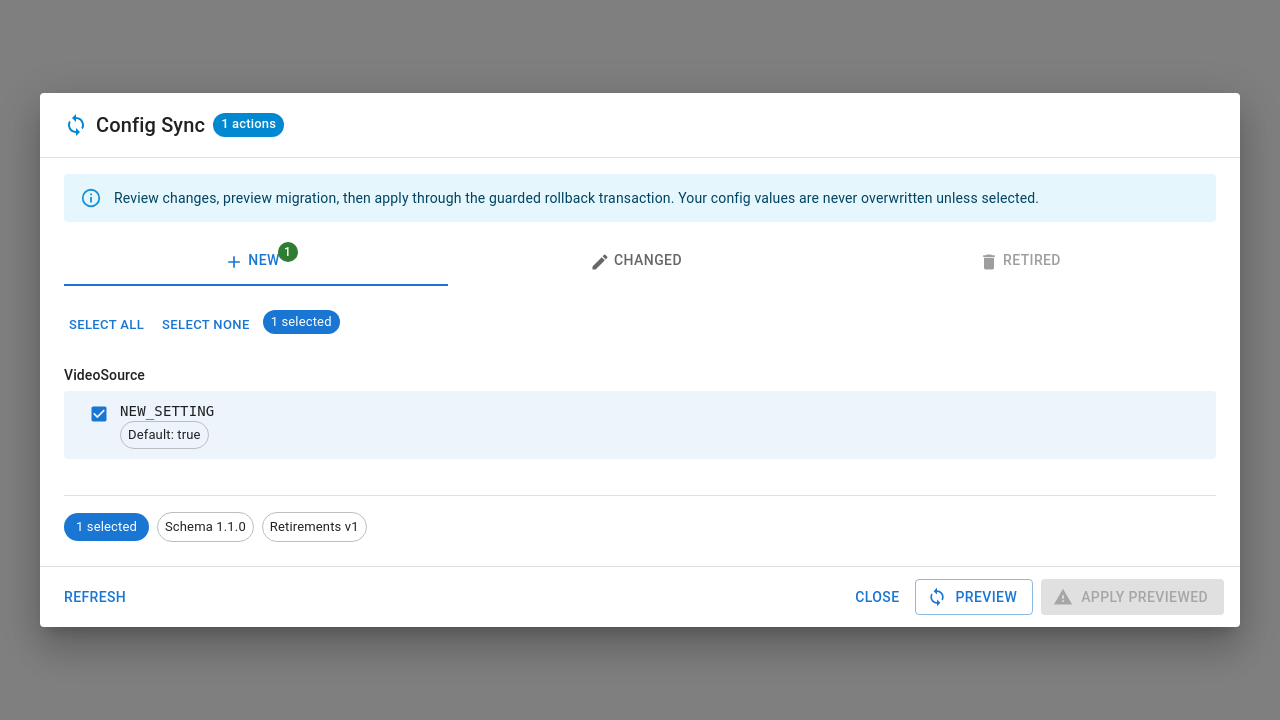
it: SyncWithDefaultsDialog › does not claim a missing defaults baseline was initialized by a read
Click the tab "Changed".
click(640, 262)  # box [448,238,832,286]
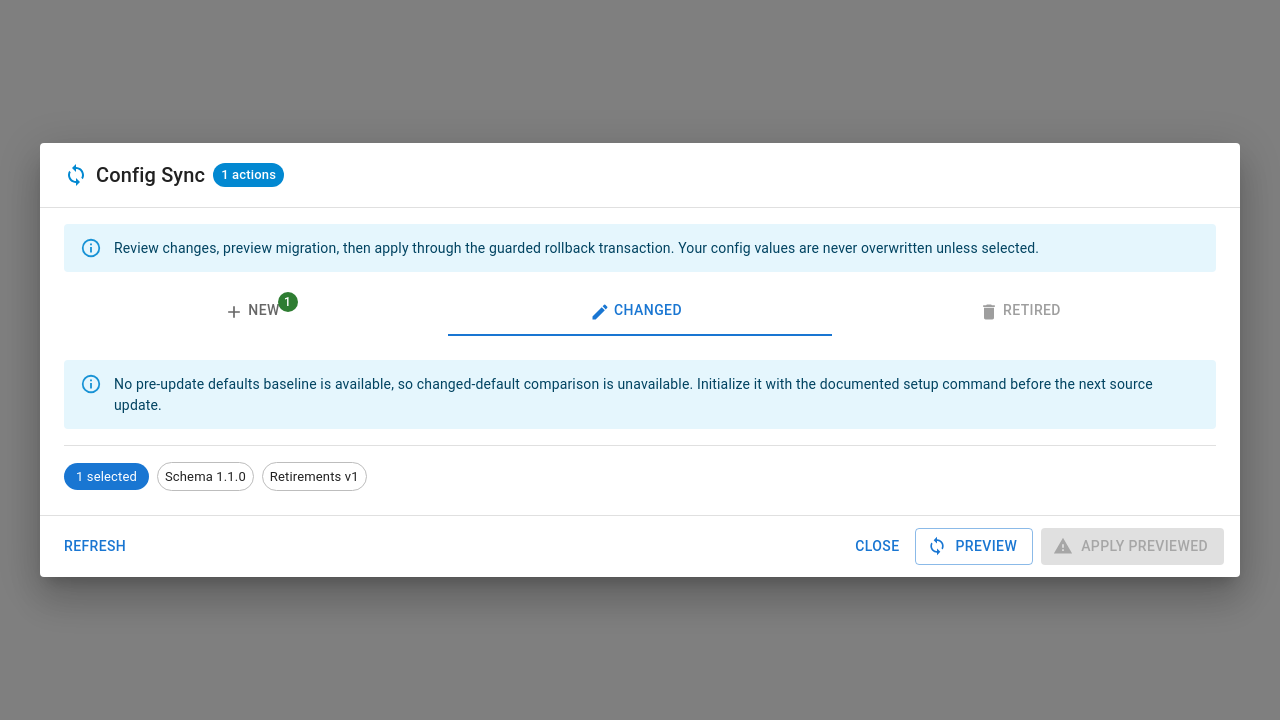
Expected: the text "No pre-update defaults baseline is available" is shown, [114,376,1153,412]
